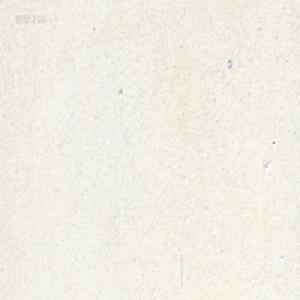Washer: (227, 58, 232, 68)
